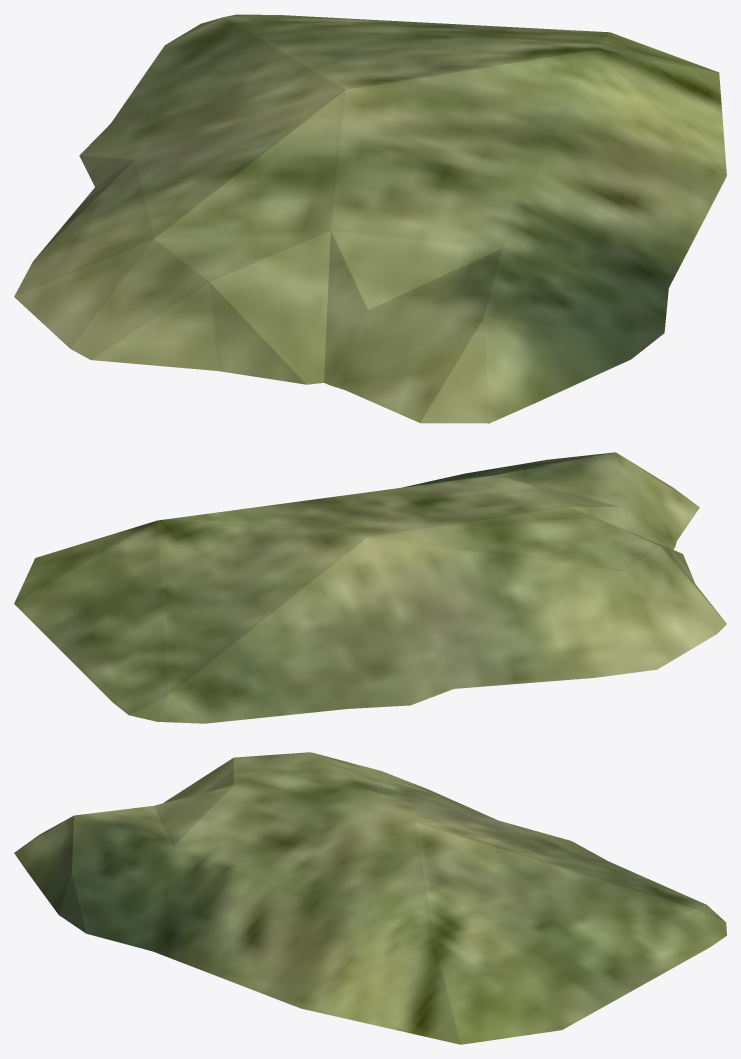
3 views of the same model, one above another, from view 1: azimuth 30°, elevation 25°; view 2: azimuth 150°, elevation 25°; view 3: azimuth 270°, elevation 25° (orthographic). The views are drawn at different scales.
Size of the model in its own units: 5.54 by 0.7124 by 6.02.
Materials: 1 (1 with a texture image).
